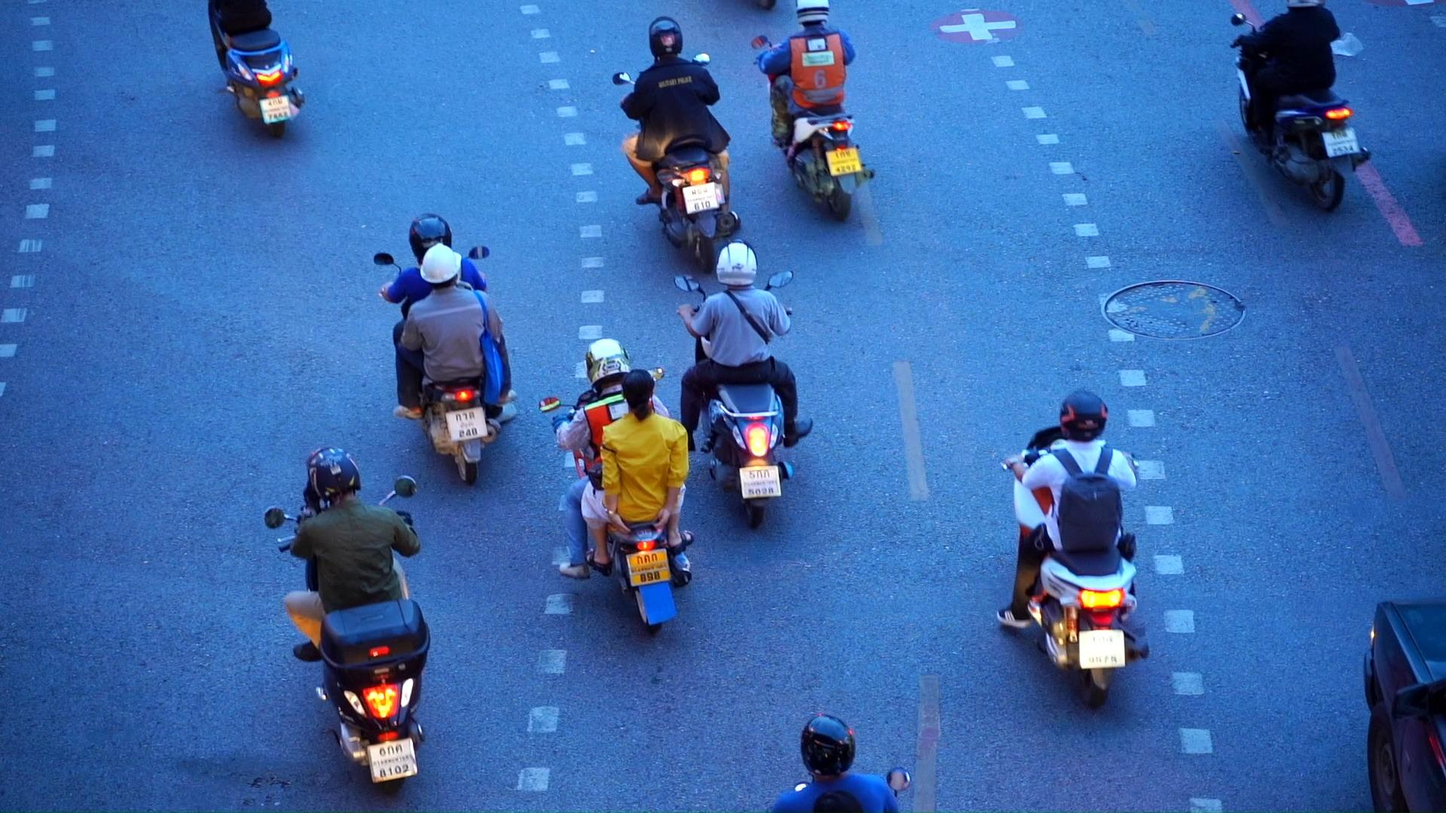driver: (264, 446, 432, 796), (996, 389, 1150, 711), (540, 338, 695, 633), (673, 237, 814, 529), (373, 213, 519, 485), (613, 16, 741, 273), (1231, 0, 1370, 214), (750, 0, 876, 223), (769, 715, 912, 813), (207, 0, 304, 137)
helmet: (800, 715, 856, 783), (307, 446, 361, 510), (1060, 389, 1108, 442), (584, 338, 630, 390), (409, 213, 453, 266), (716, 237, 758, 287), (420, 243, 462, 291), (648, 17, 684, 63), (795, 0, 830, 26)
no-helmet: (621, 369, 656, 422)
